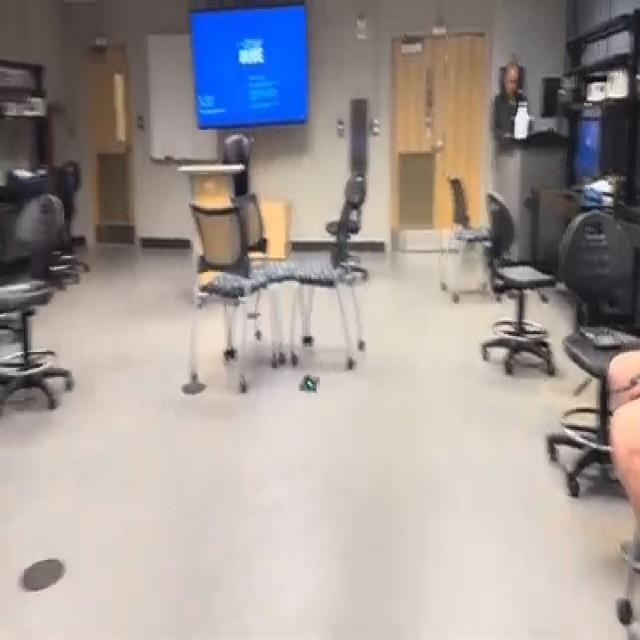drone: (292, 357, 326, 413)
